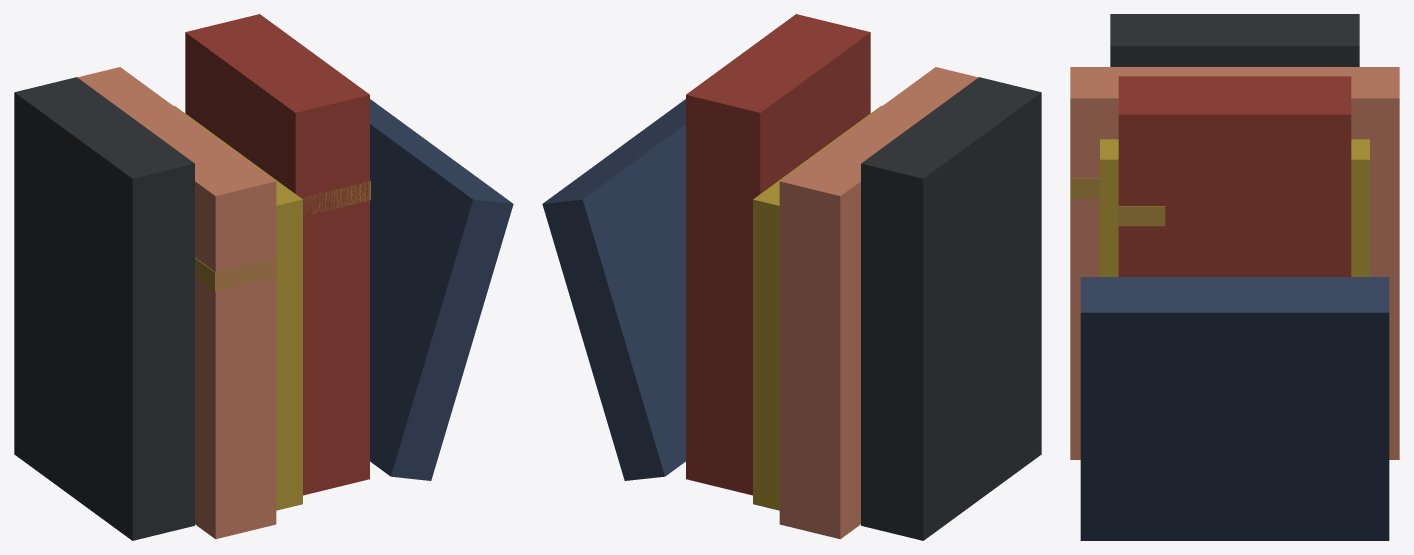
File: book-stack-38.glb
3 renders of one model, left to right at view 1: azimuth 30°, elevation 25°; view 2: azimuth 150°, elevation 25°; view 3: azimuth 270°, elevation 25°, orthographic. The views are drawn at different scales.
Visible parts, largest first — view 1: book_stack_38; view 2: book_stack_38; view 3: book_stack_38.
Part boxes in pixels (x1,y1,x2,y2): book_stack_38: (14,14,513,540); book_stack_38: (542,14,1041,540); book_stack_38: (1070,14,1399,540).
Size of the model in its own units: 0.2402 by 0.2405 by 0.1772.
